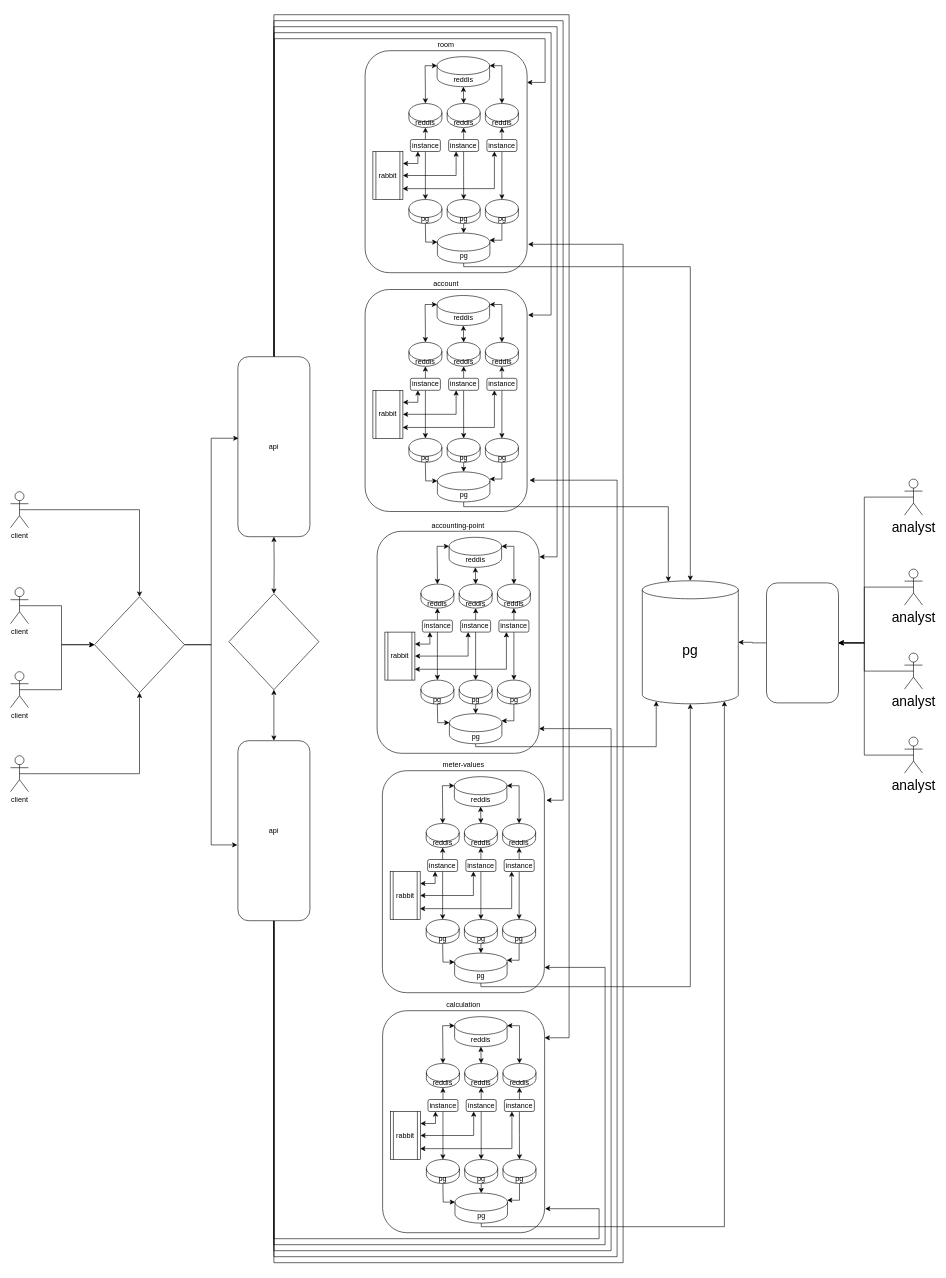
This 946x1278 diagram has some shape labels left out. Here are the shapes that lost their labels. From the top down, the centre of each, then its label:
At point 139,644: "load balancer".
At point 273,641: "eureka".
At point 802,642: "report server".
